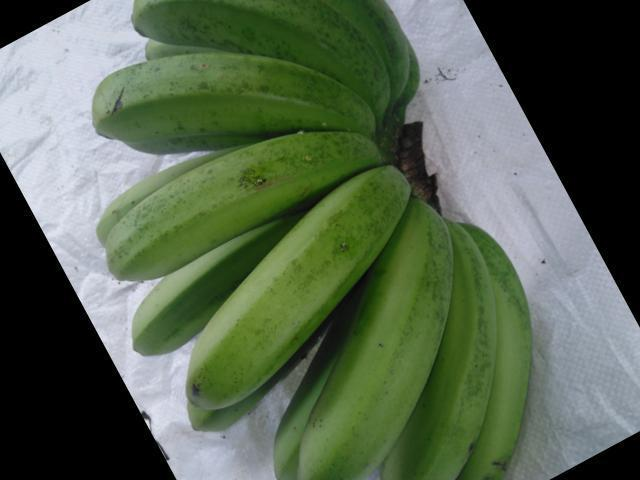unripe: (175, 168, 424, 404), (78, 124, 390, 262), (297, 206, 449, 479), (130, 3, 402, 87), (66, 55, 358, 128)
